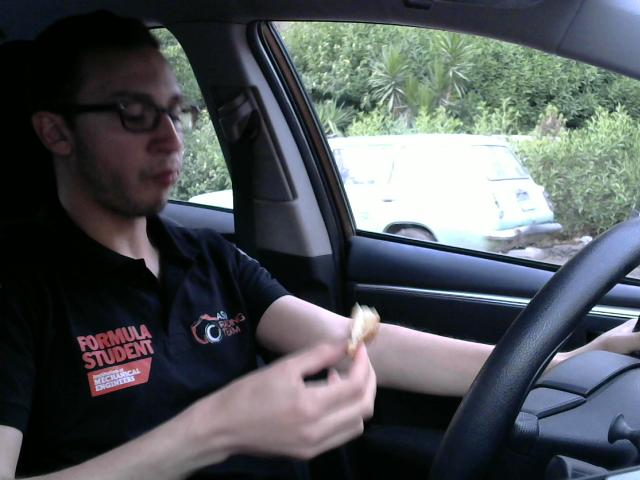Drinking: (341, 296, 386, 355)
